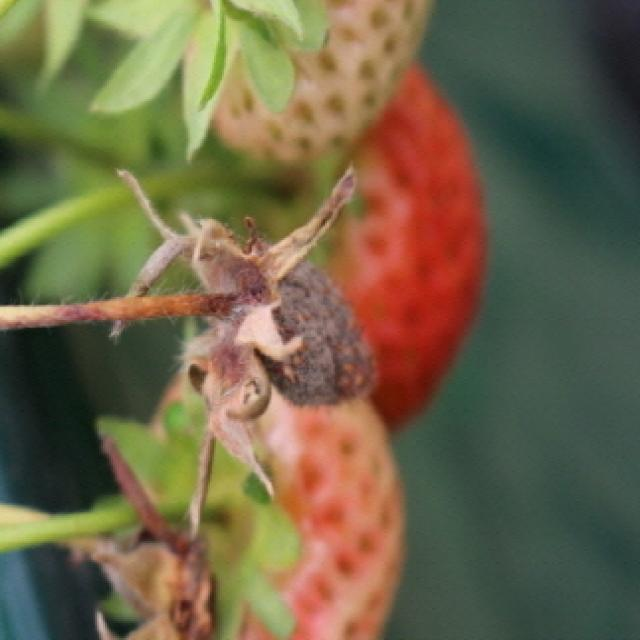Gray Mold: (117, 167, 381, 490)
